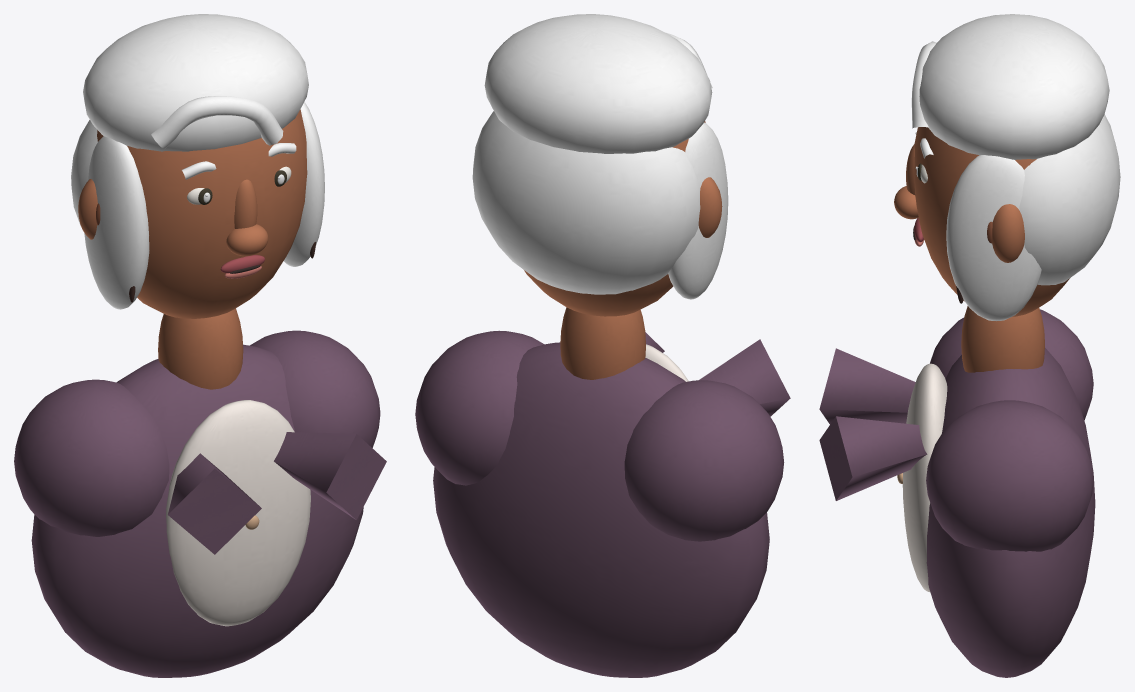
Rendered from maya.glb.
3 views of the same model, side by side, from view 1: azimuth 30°, elevation 25°; view 2: azimuth 150°, elevation 25°; view 3: azimuth 270°, elevation 25° (orthographic). The views are drawn at different scales.
Parts seen in each view (by area): view 1: Body, Head, Face; view 2: Body, Head, Face; view 3: Body, Head, Face.
Boxes of the visible parts, x1,y1,x2,y2 form: Body: [14, 308, 386, 677]; Head: [71, 14, 324, 309]; Face: [97, 109, 307, 318]; Body: [415, 307, 790, 677]; Head: [472, 14, 728, 299]; Face: [524, 121, 705, 316]; Body: [819, 306, 1095, 677]; Head: [894, 14, 1120, 320]; Face: [914, 127, 1069, 316].
Bounding box in the file's own units: 2.32 × 4.14 × 1.8.
Materials: 17 (17 with a texture image).
